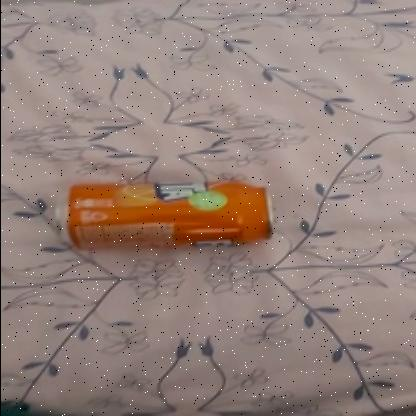Can: (54, 181, 274, 253)
